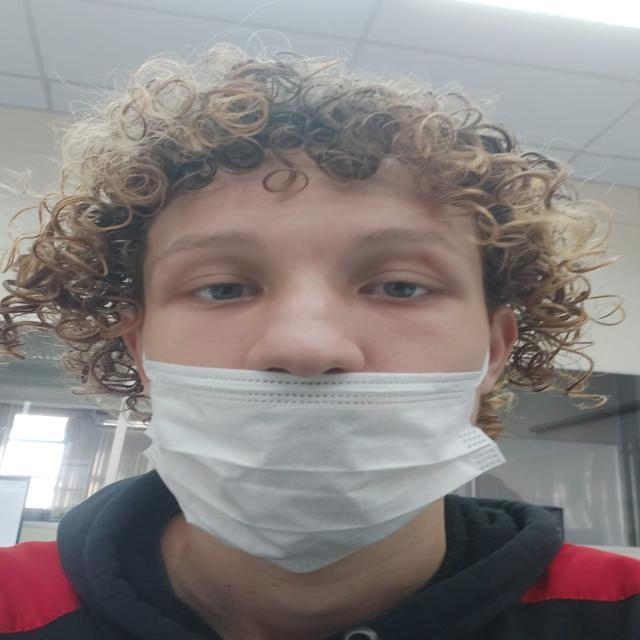hairnet: (113, 312, 496, 565)
